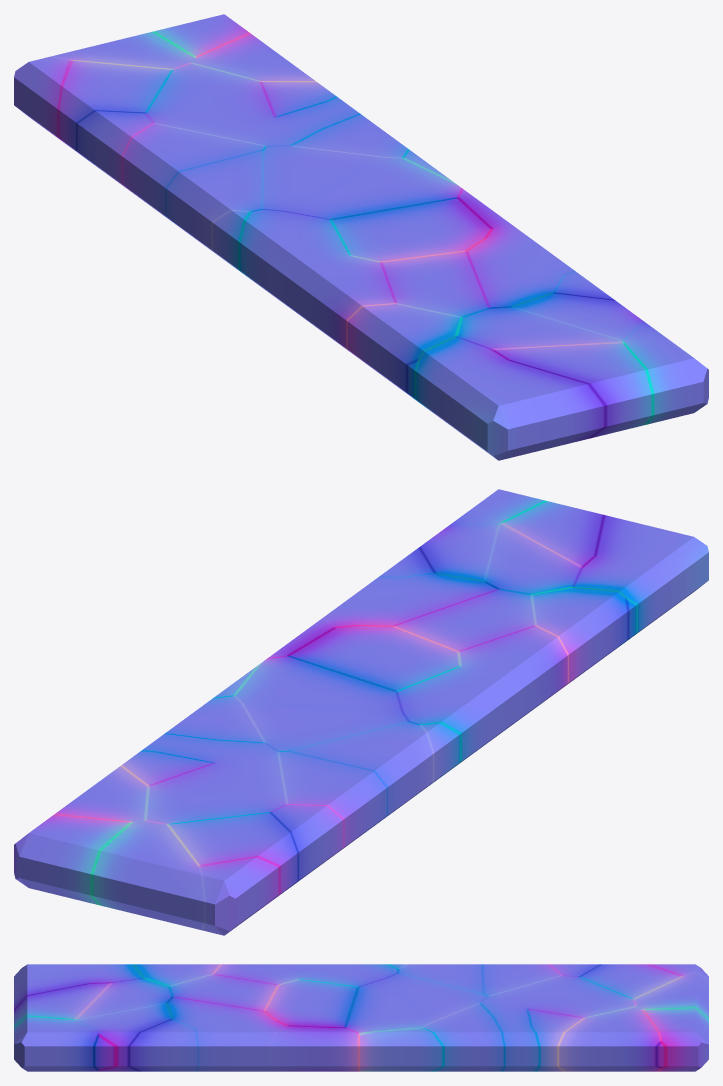
Rendered from Platform.fbx.
The picture shows the model from 3 angles, top to bottom: view 1: azimuth 30°, elevation 25°; view 2: azimuth 150°, elevation 25°; view 3: azimuth 270°, elevation 25°; orthographic projection. The views are drawn at different scales.
Parts seen in each view (by area): view 1: Cube; view 2: Cube; view 3: Cube.
Part boxes in pixels (bbox=[...]): Cube: bbox=[14, 14, 708, 460]; Cube: bbox=[14, 489, 708, 935]; Cube: bbox=[14, 964, 708, 1071].
Size of the model in its own units: 343 by 81.42 by 1312.
